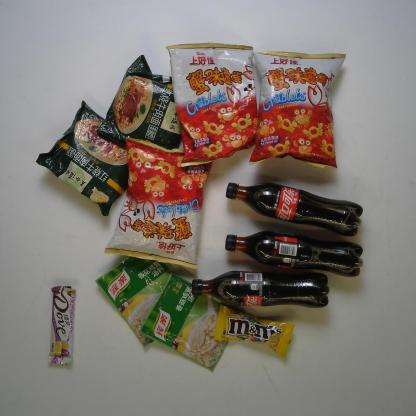Chocolate: (209, 302, 300, 359), (44, 284, 82, 370)
Drink: (220, 180, 368, 238), (223, 229, 368, 280), (184, 268, 337, 312)
Instant Noodles: (30, 98, 130, 218), (90, 53, 186, 152)
Puffed Food: (103, 125, 216, 273), (164, 40, 265, 170), (248, 47, 350, 171)
Seasoner: (95, 251, 192, 350), (139, 272, 231, 373)
